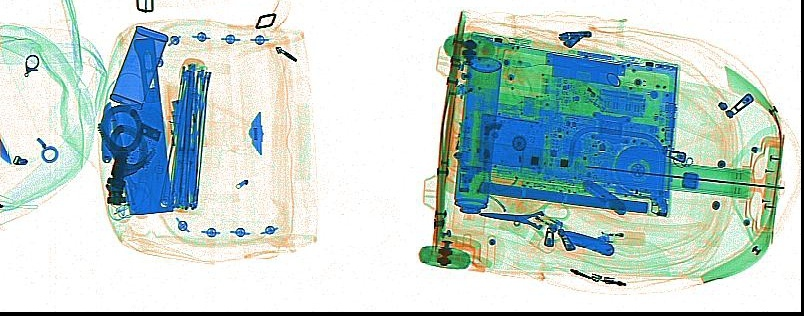handcuffs: (97, 104, 155, 205)
knife: (110, 37, 173, 215), (554, 229, 614, 258), (581, 178, 626, 216), (169, 97, 190, 150), (100, 101, 114, 163)
lighter: (190, 92, 207, 146), (598, 229, 645, 246)
pressure: (451, 57, 501, 235)
scissors: (476, 200, 569, 242)
zippooil: (109, 25, 168, 110)
